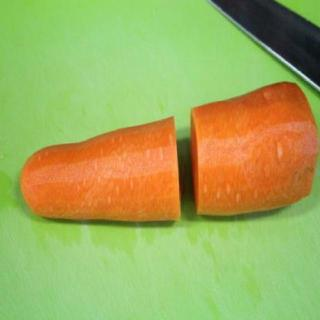carrot: (186, 76, 320, 220), (19, 114, 185, 228)
